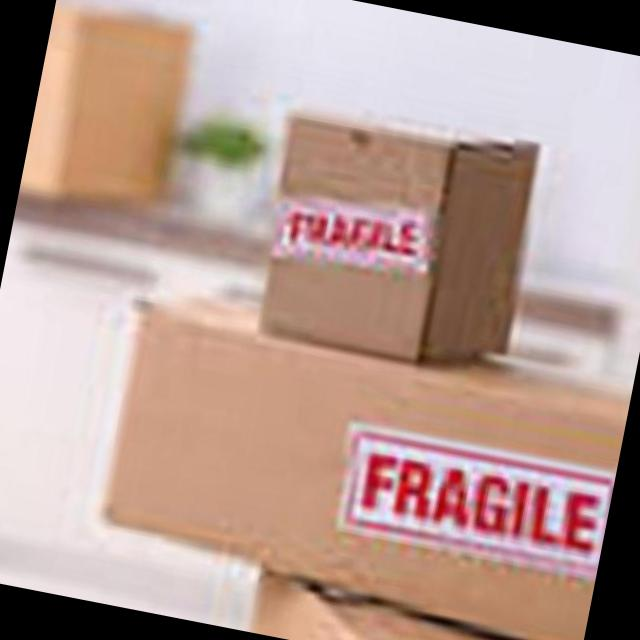box: (102, 296, 640, 638), (256, 108, 542, 363)
